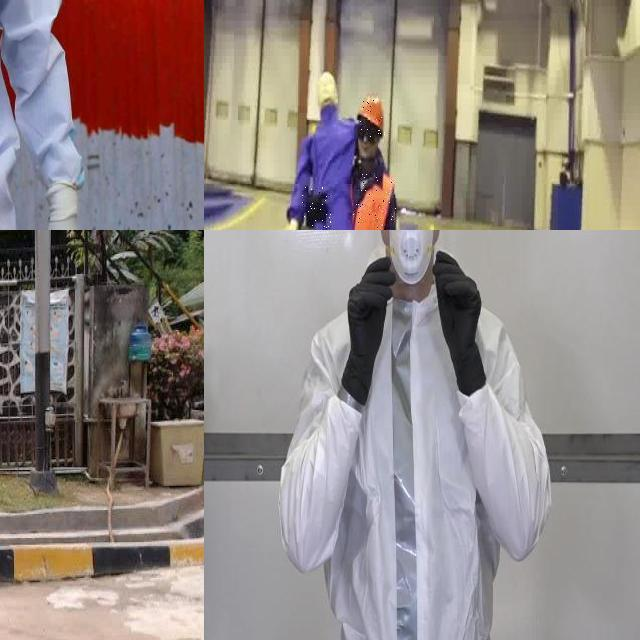GLASS: (356, 121, 380, 144)
GLOVE: (308, 189, 332, 227)
Glove: (340, 254, 396, 406), (431, 246, 486, 392), (42, 206, 83, 230)
HELMET: (359, 97, 385, 137)
MASK: (388, 230, 433, 285)
VEST: (353, 172, 396, 230)
